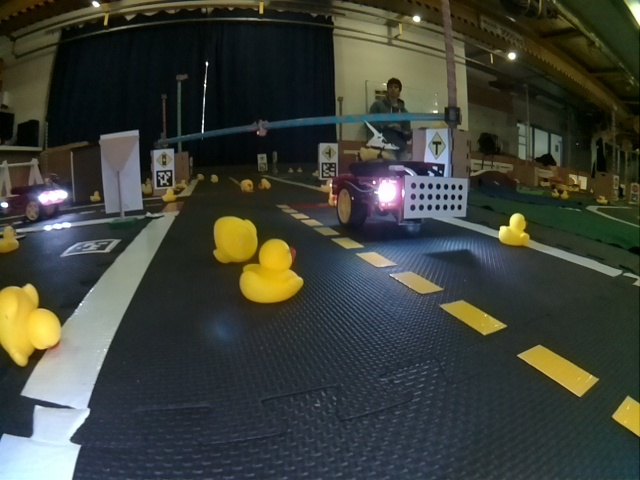Duckie: (2, 284, 62, 364), (242, 241, 302, 305), (213, 216, 256, 262), (499, 214, 528, 245), (0, 227, 19, 252), (163, 190, 176, 202), (240, 179, 253, 190), (259, 179, 270, 189)
Duckiebot: (332, 161, 470, 231)
Intersection sign: (427, 134, 443, 160), (322, 146, 336, 160)
QR code: (60, 240, 121, 257), (156, 170, 172, 186), (320, 163, 337, 177)
Signal sign: (155, 151, 173, 168)
